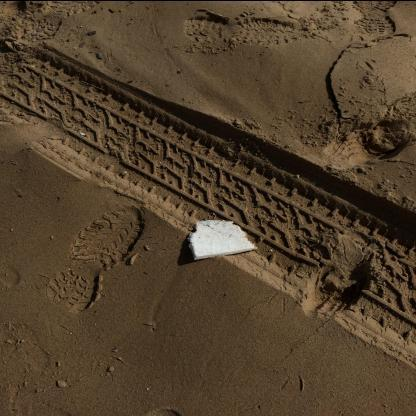kopuk: (189, 220, 257, 260)
